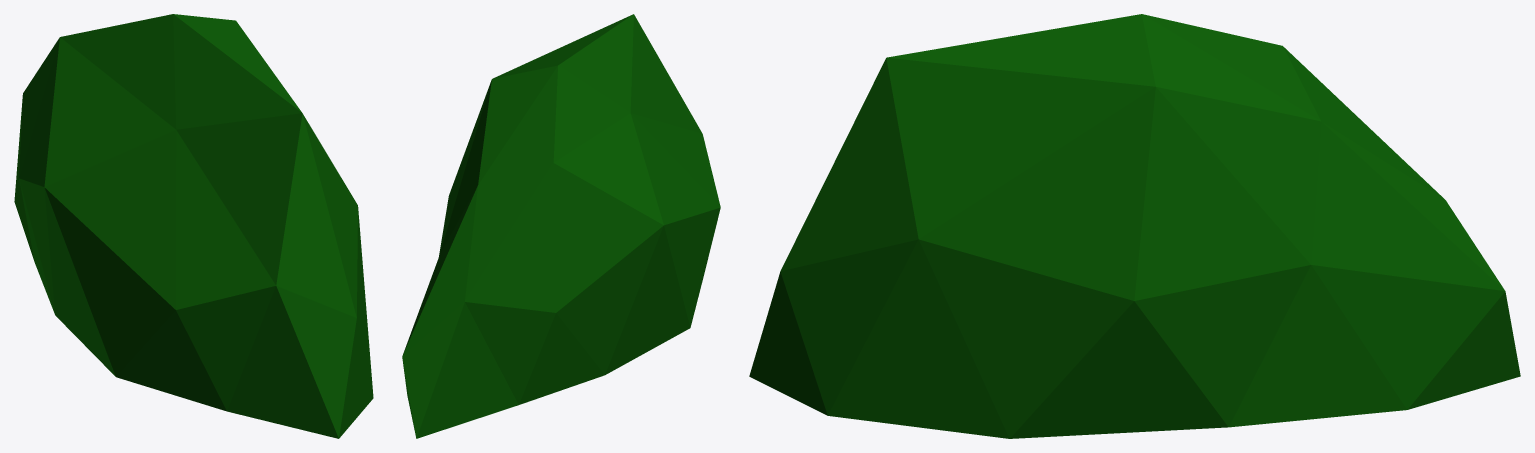
The model's file is Bush2.fbx.
3 renders of one model, left to right at view 1: azimuth 30°, elevation 25°; view 2: azimuth 150°, elevation 25°; view 3: azimuth 270°, elevation 25°, orthographic. The views are drawn at different scales.
Visible parts, largest first — view 1: Iкосфера; view 2: Iкосфера; view 3: Iкосфера.
Part boxes in pixels (box(x1,y1,x2,y2)): Iкосфера: box(14, 14, 373, 438); Iкосфера: box(402, 14, 720, 438); Iкосфера: box(749, 14, 1520, 438).
Bounding box in the file's own units: 136 × 158 × 304.
